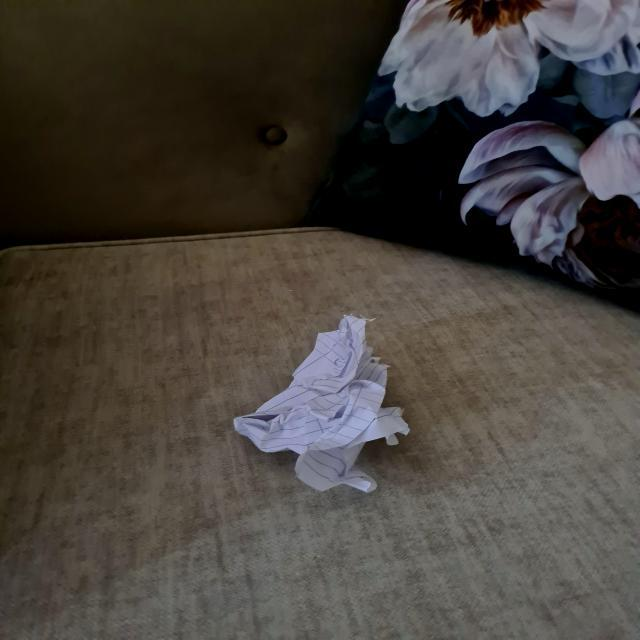Paper: (232, 311, 418, 504)
